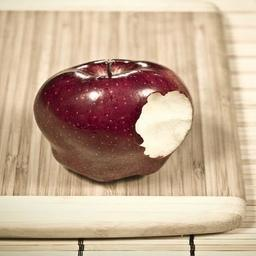apple: (32, 55, 193, 184)
